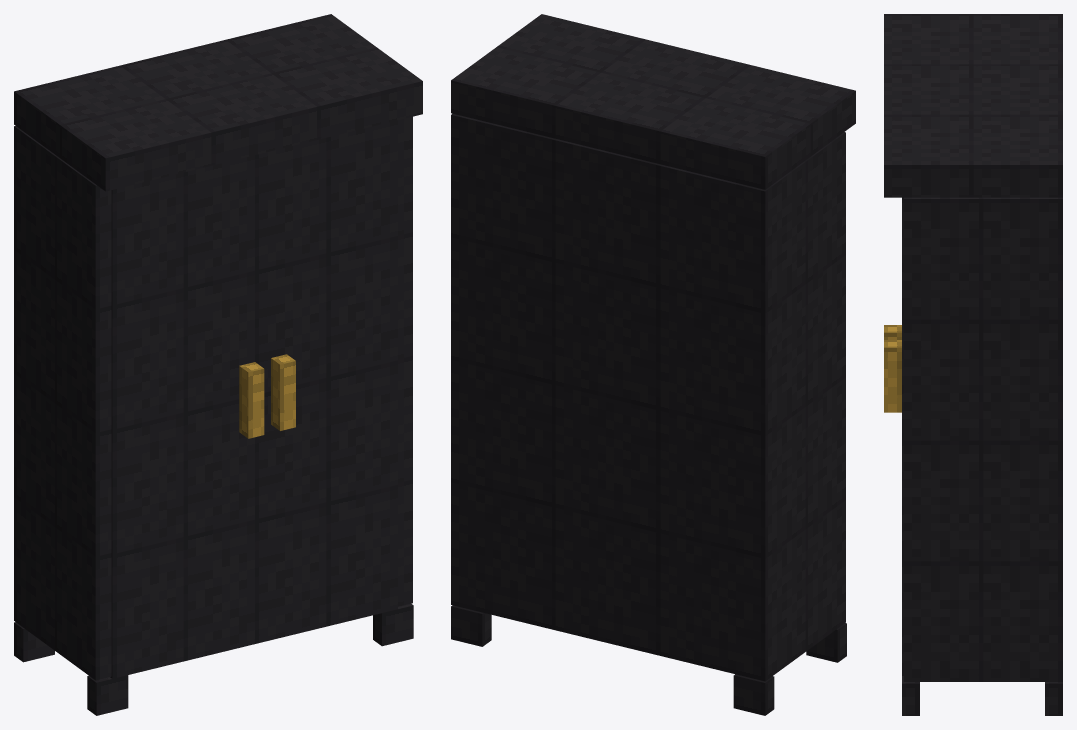
File: bedroomWardrobeMansion_1.glb
3 renders of one model, left to right at view 1: azimuth 30°, elevation 25°; view 2: azimuth 150°, elevation 25°; view 3: azimuth 270°, elevation 25°, orthographic. The views are drawn at different scales.
Parts seen in each view (by area): view 1: bedroomWardrobeMansion_1; view 2: bedroomWardrobeMansion_1; view 3: bedroomWardrobeMansion_1.
Boxes of the visible parts, x1=… form: bedroomWardrobeMansion_1: x1=14, y1=14, x2=422, y2=715; bedroomWardrobeMansion_1: x1=451, y1=14, x2=855, y2=715; bedroomWardrobeMansion_1: x1=884, y1=14, x2=1062, y2=715.
Bounding box in the file's own units: 1.25 × 2.12 × 0.625.
Materials: 1 (1 with a texture image).
